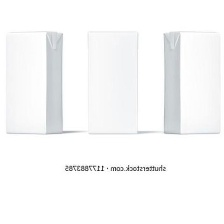carton: (160, 29, 224, 136), (3, 29, 65, 134), (85, 28, 141, 137)
